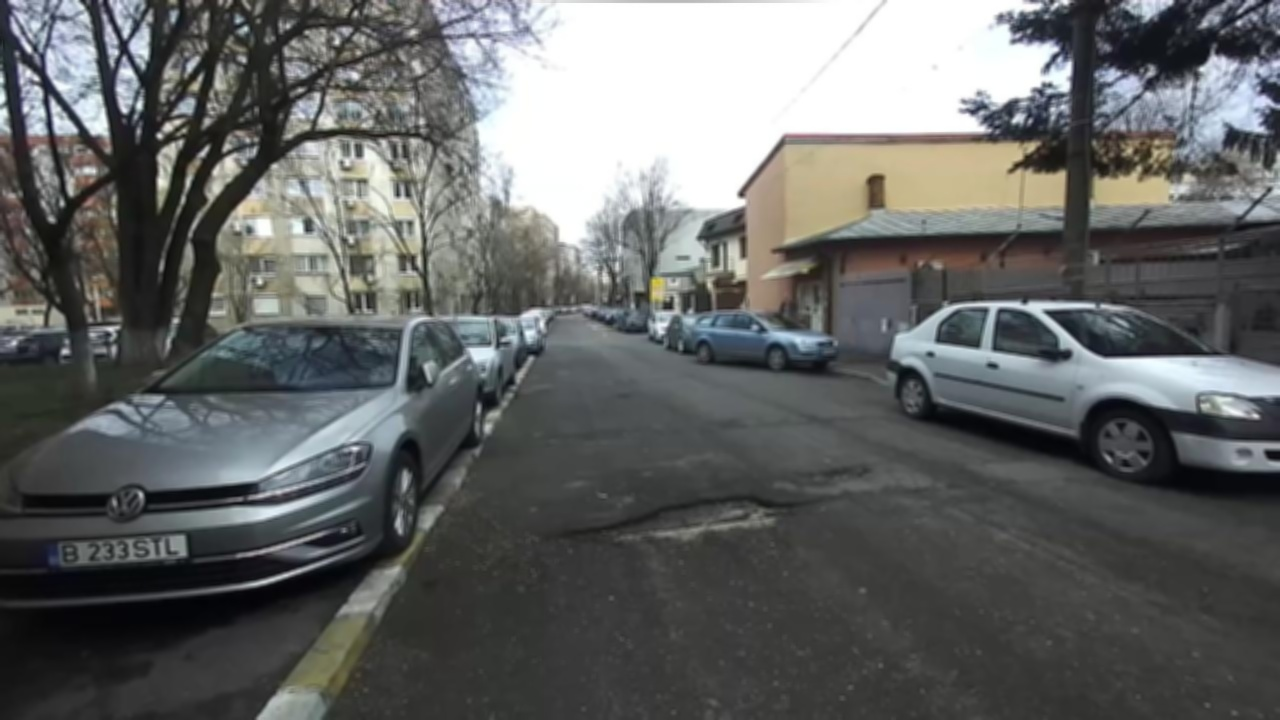pothole: (557, 491, 835, 548), (792, 457, 876, 480)
